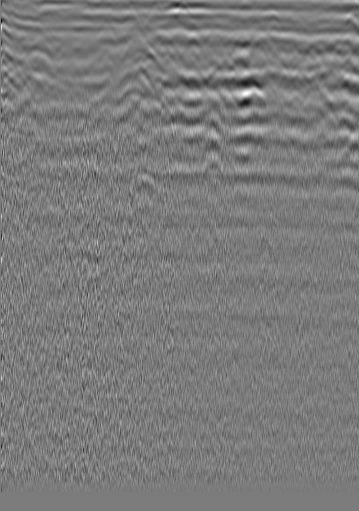가스: (127, 173, 155, 200)
상수: (303, 41, 323, 61)
오수: (25, 43, 45, 63)
우수: (182, 33, 202, 53)
